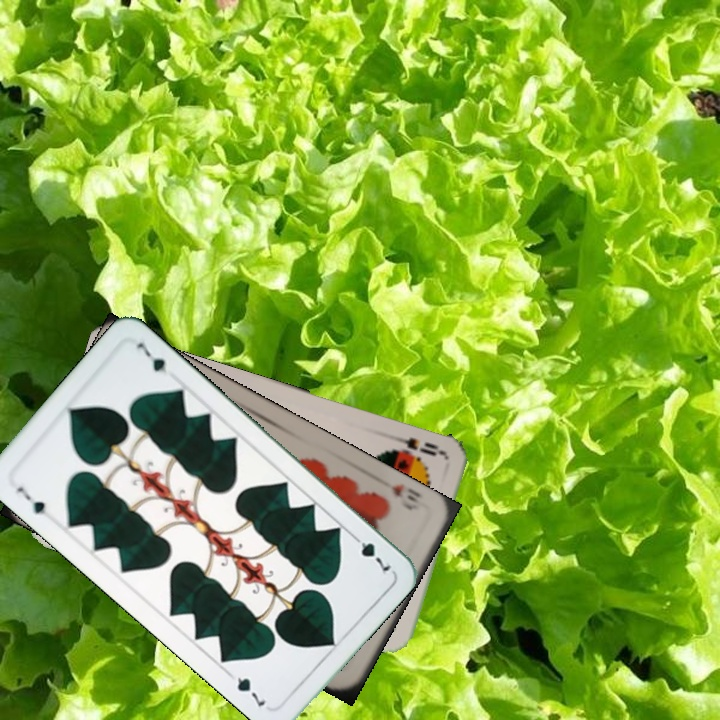G7: (346, 529, 394, 577), (12, 483, 49, 517)
H10: (376, 475, 423, 513)
SO: (387, 431, 445, 459)
